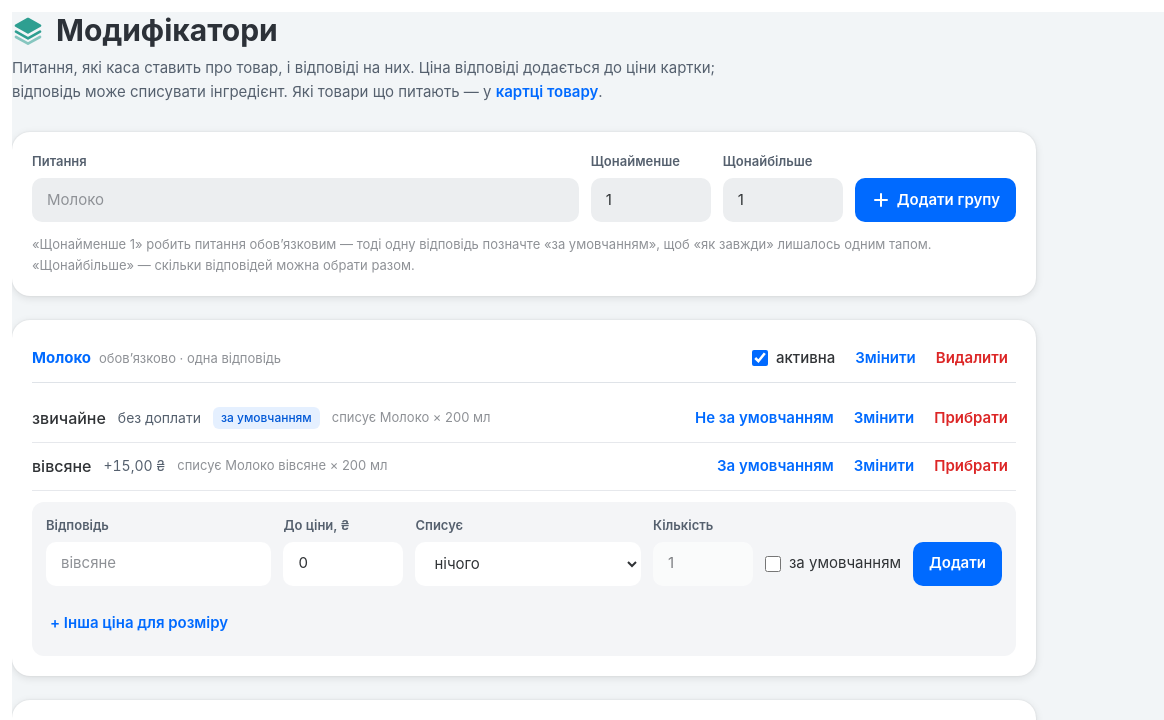
Scenario: ModifiersPage › surfaces the server's refusal in its own words
This screenshot has width=1164, height=720.
Expected: the element with test id "group-card-1" is shown, [12, 320, 1036, 676]
In the field with test id "group-form-name": (305, 200) [32, 178, 579, 222], type "Сироп"
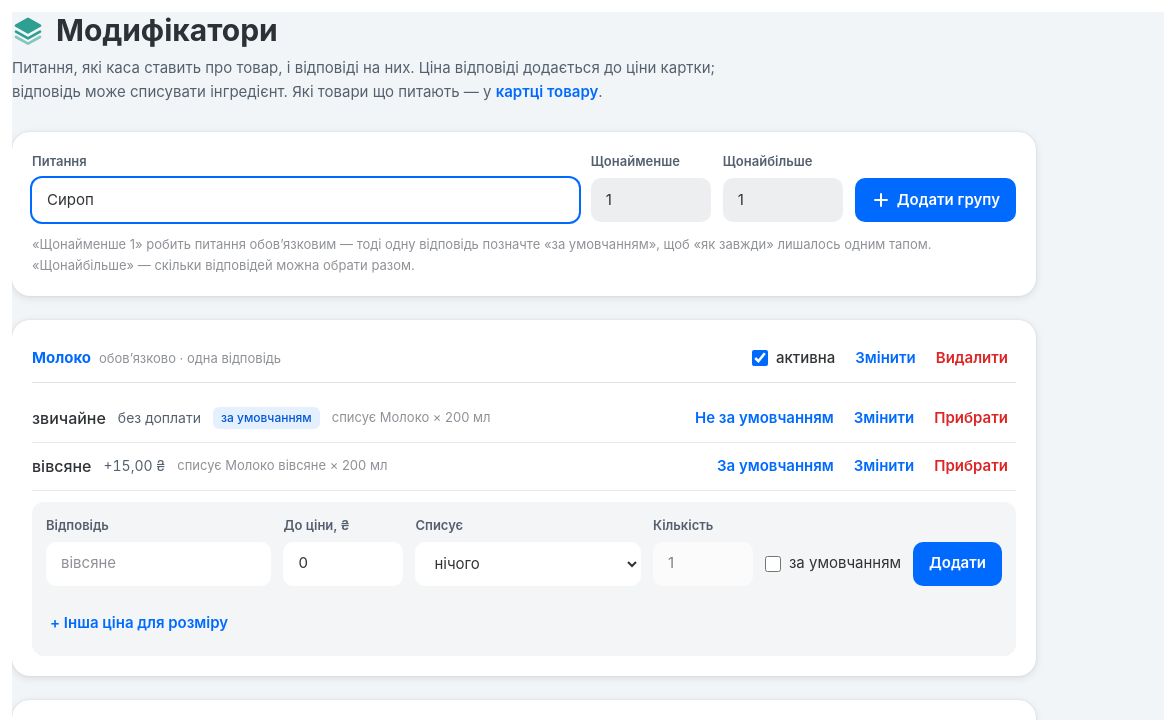
Click the button with test id "group-form-submit": (935, 200) [855, 178, 1016, 222]
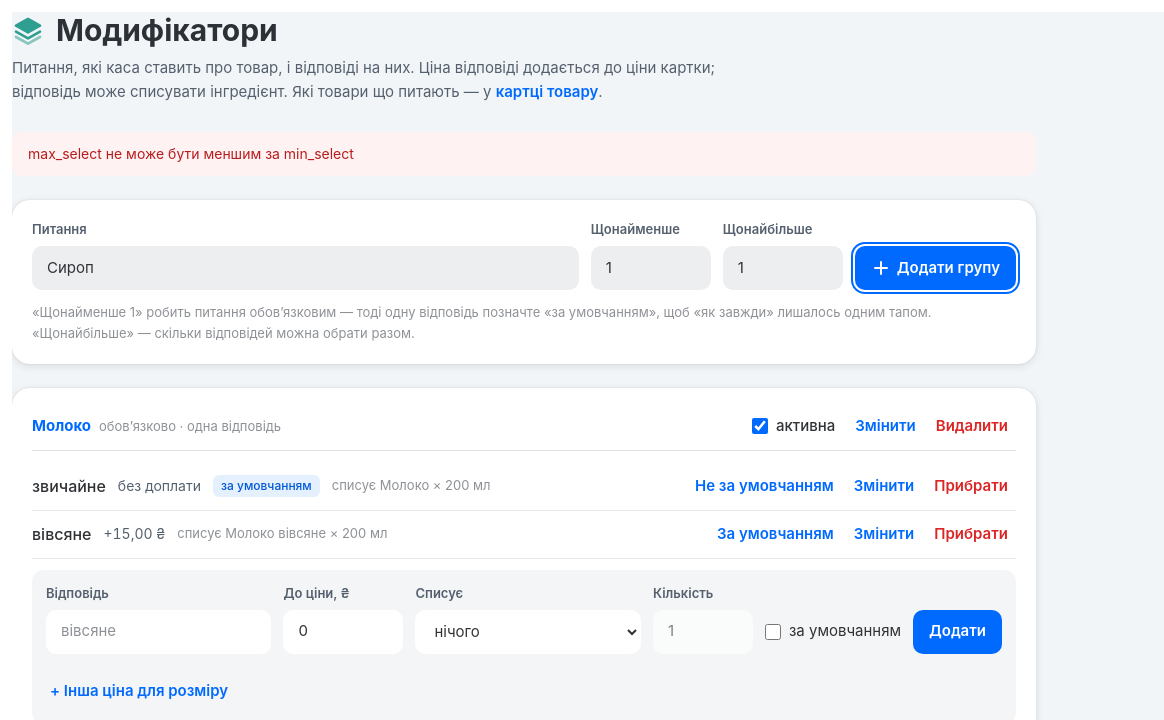
Expected: the text with test id "modifiers-error" reads "max_select не може бути меншим за min_select", [28, 145, 354, 162]
